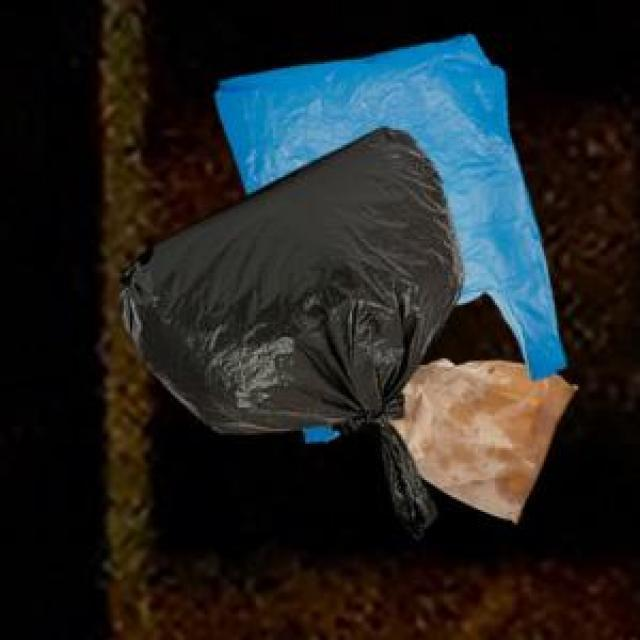miscellaneous trash: (113, 124, 461, 536)
paper: (384, 354, 574, 518)
